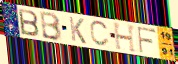B: (40, 10, 64, 42), (17, 8, 41, 38)
C: (89, 21, 111, 48)
F: (137, 26, 157, 55)
H: (112, 22, 138, 54)
K: (68, 15, 88, 46)
